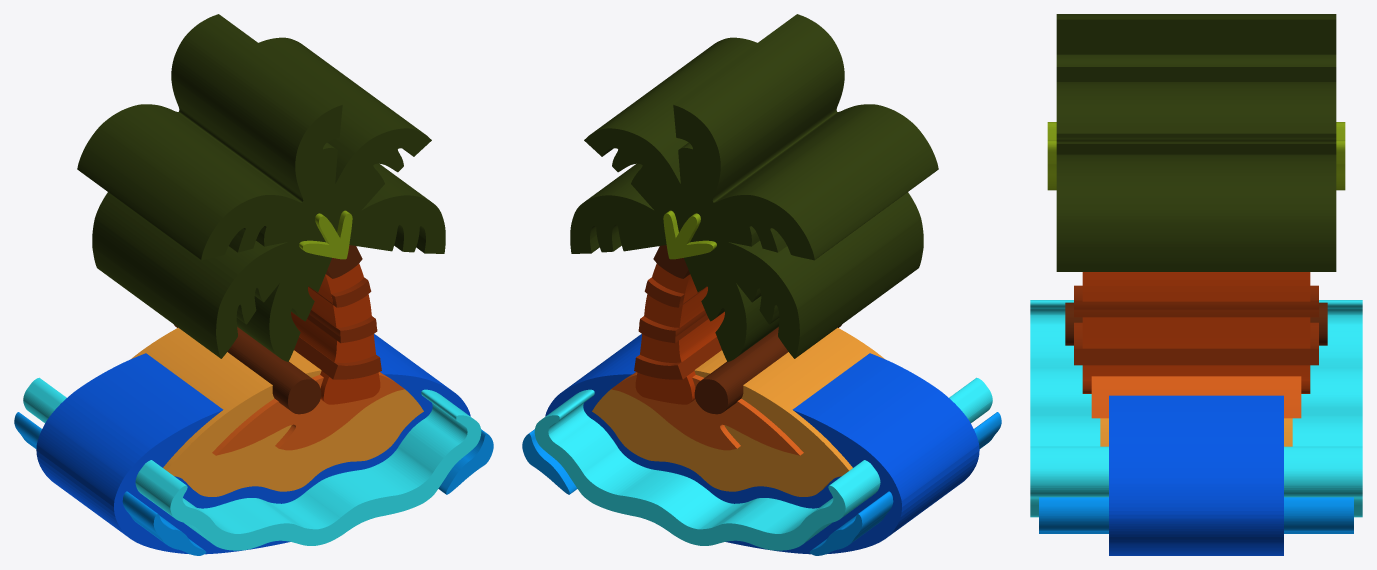
3 views of the same model, side by side, from view 1: azimuth 30°, elevation 25°; view 2: azimuth 150°, elevation 25°; view 3: azimuth 270°, elevation 25° (orthographic). The views are drawn at different scales.
Visible parts, largest first — view 1: U+1F3DD_layer06_obj00, U+1F3DD_layer00_obj00, U+1F3DD_layer09_obj00, U+1F3DD_layer01_obj00, U+1F3DD_layer03_obj00, U+1F3DD_layer02_obj00, U+1F3DD_layer05_obj01, U+1F3DD_layer08_obj00, U+1F3DD_layer07_obj00, U+1F3DD_layer04_obj00, U+1F3DD_layer08_obj01, U+1F3DD_layer04_obj02 (+2 smaller); view 2: U+1F3DD_layer06_obj00, U+1F3DD_layer00_obj00, U+1F3DD_layer09_obj00, U+1F3DD_layer01_obj00, U+1F3DD_layer03_obj00, U+1F3DD_layer02_obj00, U+1F3DD_layer05_obj01, U+1F3DD_layer08_obj00, U+1F3DD_layer07_obj00, U+1F3DD_layer04_obj00, U+1F3DD_layer08_obj01, U+1F3DD_layer04_obj02 (+2 smaller); view 3: U+1F3DD_layer06_obj00, U+1F3DD_layer00_obj00, U+1F3DD_layer09_obj00, U+1F3DD_layer03_obj00, U+1F3DD_layer08_obj01, U+1F3DD_layer02_obj00, U+1F3DD_layer04_obj00, U+1F3DD_layer04_obj02, U+1F3DD_layer07_obj00, U+1F3DD_layer05_obj01, U+1F3DD_layer01_obj00.
Part boxes in pixels (x1,y1,x2,y2): U+1F3DD_layer06_obj00: (77,14,445,361); U+1F3DD_layer00_obj00: (36,334,470,554); U+1F3DD_layer09_obj00: (23,377,481,550); U+1F3DD_layer01_obj00: (130,327,423,496); U+1F3DD_layer03_obj00: (291,263,380,404); U+1F3DD_layer02_obj00: (212,372,404,455); U+1F3DD_layer05_obj01: (174,325,321,414); U+1F3DD_layer08_obj00: (14,412,206,555); U+1F3DD_layer07_obj00: (299,210,352,259); U+1F3DD_layer04_obj00: (294,337,381,379); U+1F3DD_layer08_obj01: (438,429,493,494); U+1F3DD_layer04_obj02: (307,310,377,343); U+1F3DD_layer06_obj00: (570,14,938,361); U+1F3DD_layer00_obj00: (545,334,979,554); U+1F3DD_layer09_obj00: (534,377,992,550); U+1F3DD_layer01_obj00: (592,327,885,496); U+1F3DD_layer03_obj00: (635,263,724,404); U+1F3DD_layer02_obj00: (611,372,803,455); U+1F3DD_layer05_obj01: (694,325,841,414); U+1F3DD_layer08_obj00: (809,412,1001,555); U+1F3DD_layer07_obj00: (663,210,716,259); U+1F3DD_layer04_obj00: (634,337,721,379); U+1F3DD_layer08_obj01: (522,429,577,494); U+1F3DD_layer04_obj02: (638,310,708,343); U+1F3DD_layer06_obj00: (1056,14,1336,271); U+1F3DD_layer00_obj00: (1109,395,1283,555); U+1F3DD_layer09_obj00: (1030,300,1362,517); U+1F3DD_layer03_obj00: (1082,272,1310,393); U+1F3DD_layer08_obj01: (1039,497,1353,533); U+1F3DD_layer02_obj00: (1091,376,1301,418); U+1F3DD_layer04_obj00: (1074,322,1318,365); U+1F3DD_layer04_obj02: (1074,285,1318,317); U+1F3DD_layer07_obj00: (1047,122,1345,190); U+1F3DD_layer05_obj01: (1065,302,1327,345); U+1F3DD_layer01_obj00: (1100,418,1292,446).
Size of the model in its own units: 0.2662 by 0.3186 by 0.19.
